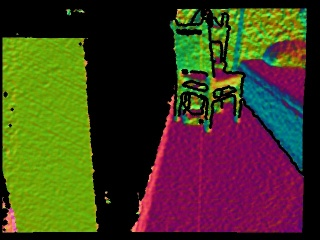station: (180, 93, 207, 125)
